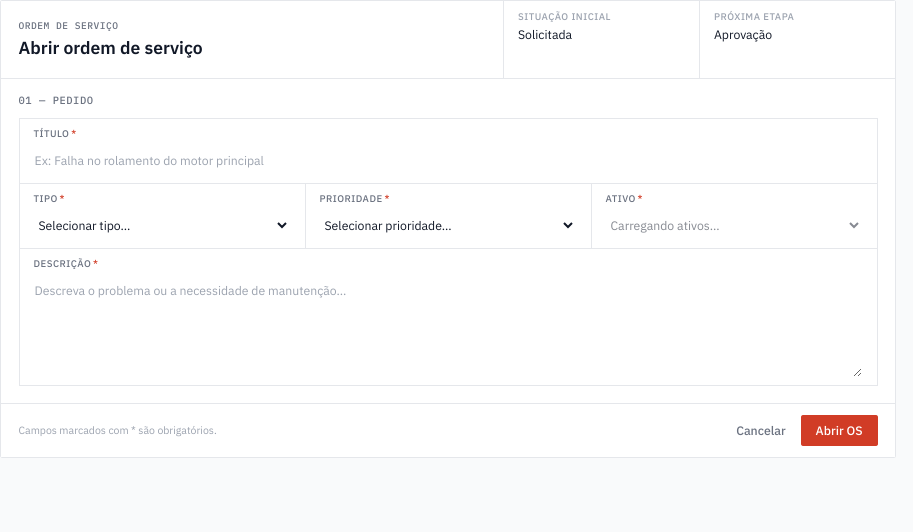
it: WorkOrderCreatePage › deve exigir os cinco campos antes de submeter
Expected: the field labelled "Título" is shown, [34,144,862,176]
Click the button "Abrir OS".
click(839, 430)  # box [801,415,878,446]
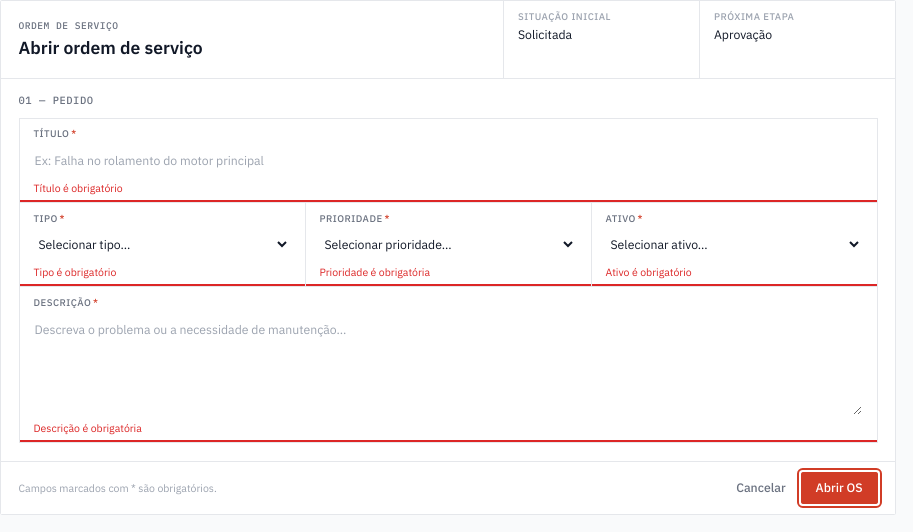
Expected: the text "Título é obrigatório" is shown, [34,181,123,195]
Expected: the text "Descrição é obrigatória" is shown, [34,421,142,435]
Expected: the text "Tipo é obrigatório" is shown, [34,265,116,279]
